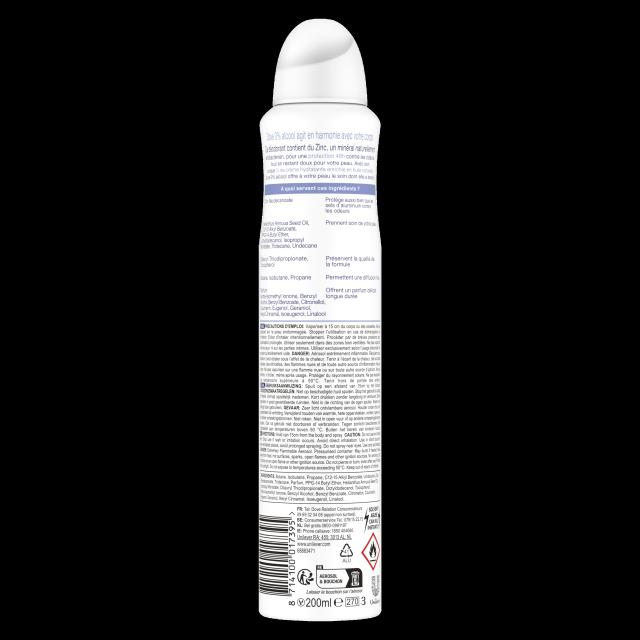GHS_Symbol_FLAME: (362, 532, 381, 570)
